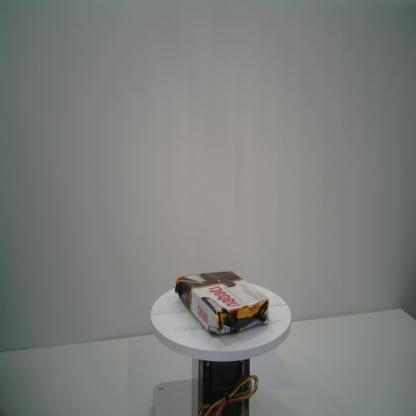Dessert: (173, 266, 269, 339)
